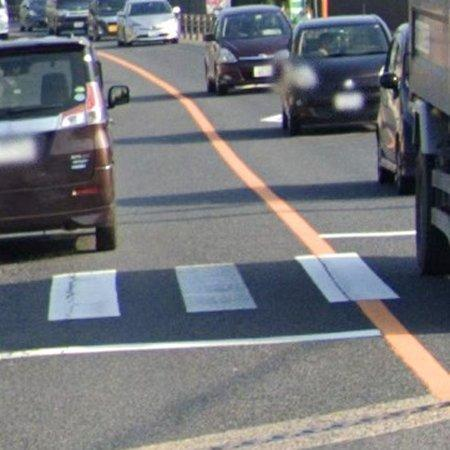crosswalks: (48, 252, 408, 319)
